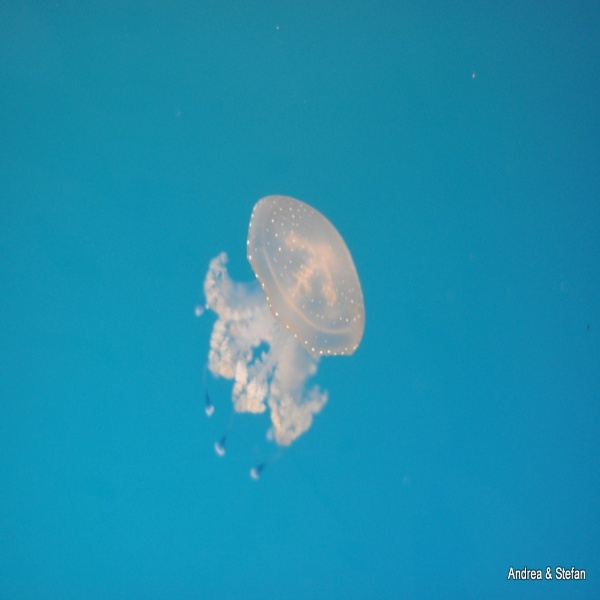Jellyfish: (197, 191, 371, 451)
